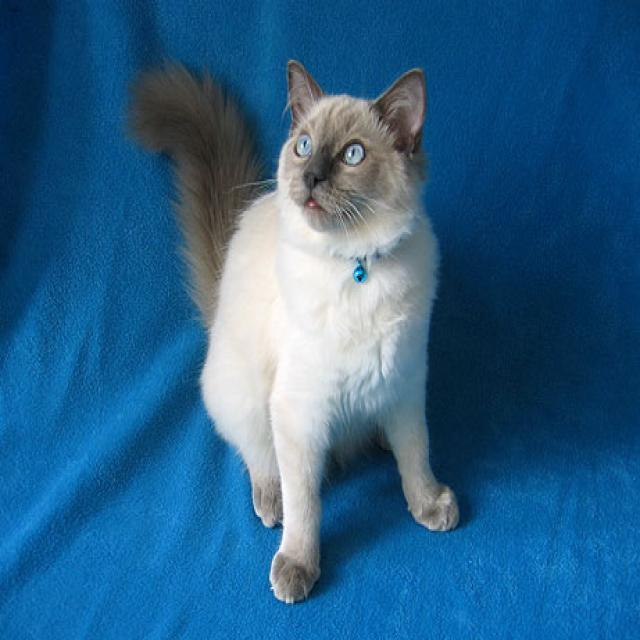Ragdoll: (271, 61, 431, 263)
